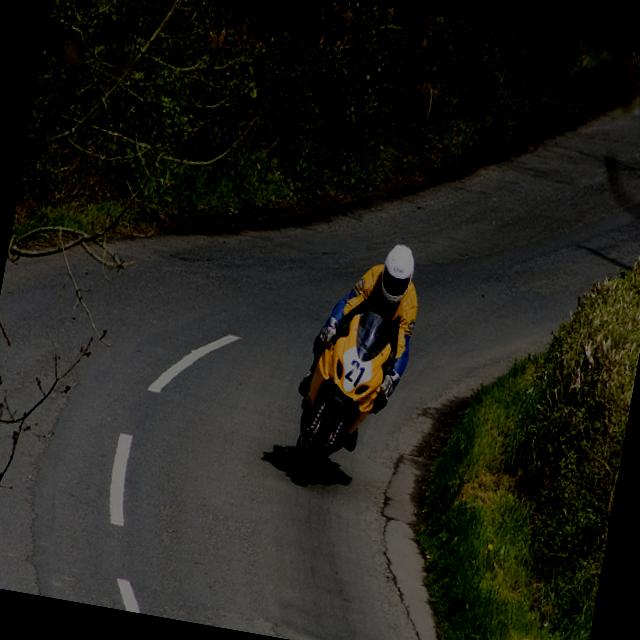Vehicle: (287, 304, 405, 498)
